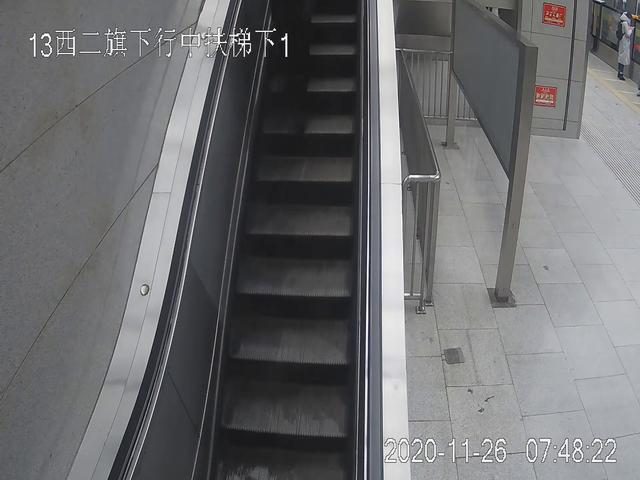person: (614, 12, 640, 79)
